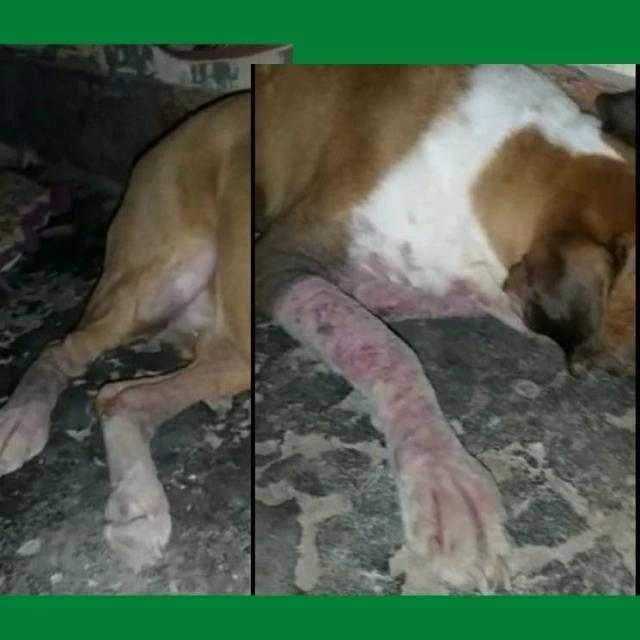fungal infection: (389, 387, 464, 552), (128, 240, 213, 330), (353, 209, 451, 282), (280, 272, 362, 336), (338, 340, 425, 386), (457, 484, 502, 544), (453, 264, 498, 304), (521, 105, 556, 121)
